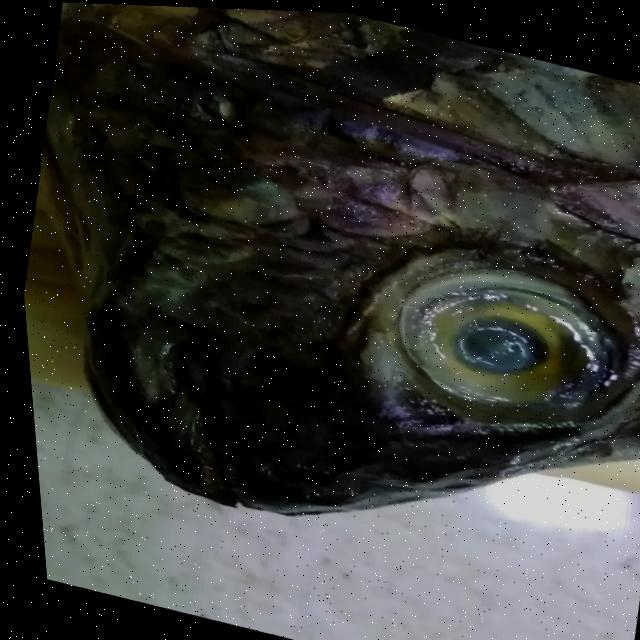Non-Fresh: (346, 221, 635, 455)
